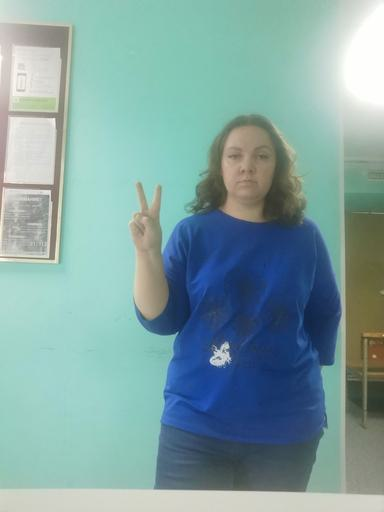peace: (127, 180, 165, 253)
